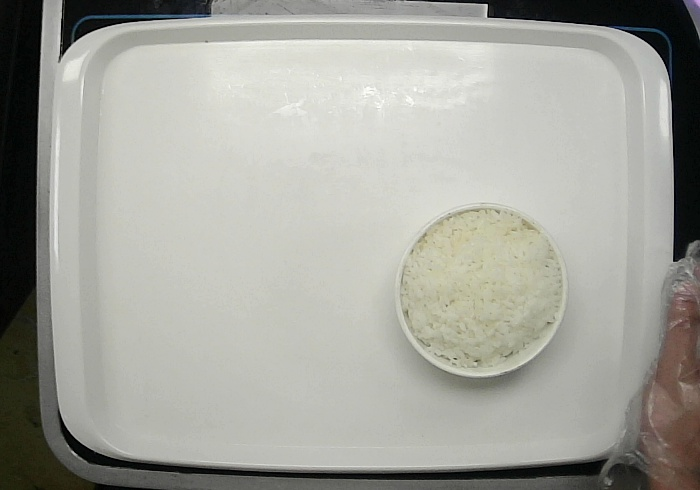HZYJPL-Fan_Wan: (394, 198, 570, 377)
